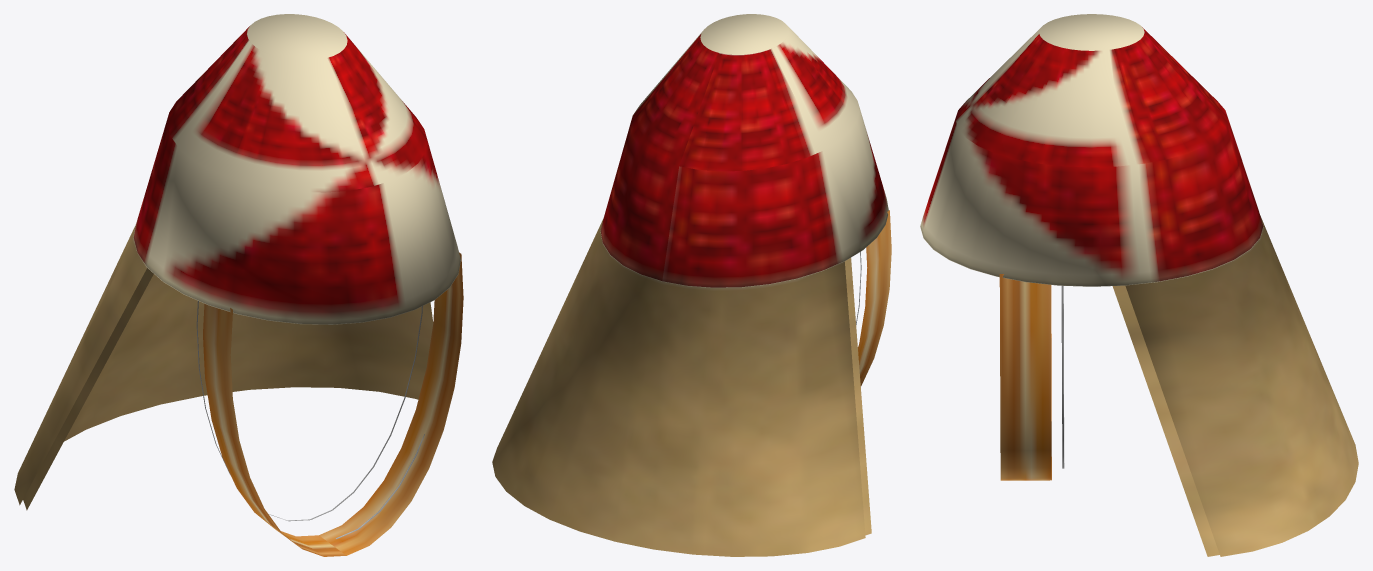
Rendered from helmet_moch_adv_2.dae.
3 views of the same model, side by side, from view 1: azimuth 30°, elevation 25°; view 2: azimuth 150°, elevation 25°; view 3: azimuth 270°, elevation 25° (orthographic). The views are drawn at different scales.
Visible parts, largest first — view 1: helmet_moch_adv_2; view 2: helmet_moch_adv_2; view 3: helmet_moch_adv_2.
Part boxes in pixels (x1=…): helmet_moch_adv_2: x1=14, y1=14, x2=463, y2=556; helmet_moch_adv_2: x1=492, y1=14, x2=891, y2=556; helmet_moch_adv_2: x1=920, y1=14, x2=1358, y2=556.
Bounding box in the file's own units: 0.7405 × 0.7337 × 0.8161.
